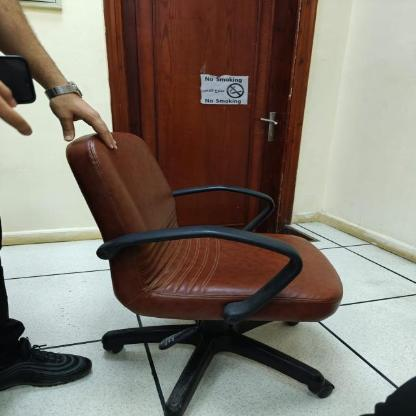chair: (56, 116, 359, 416)
